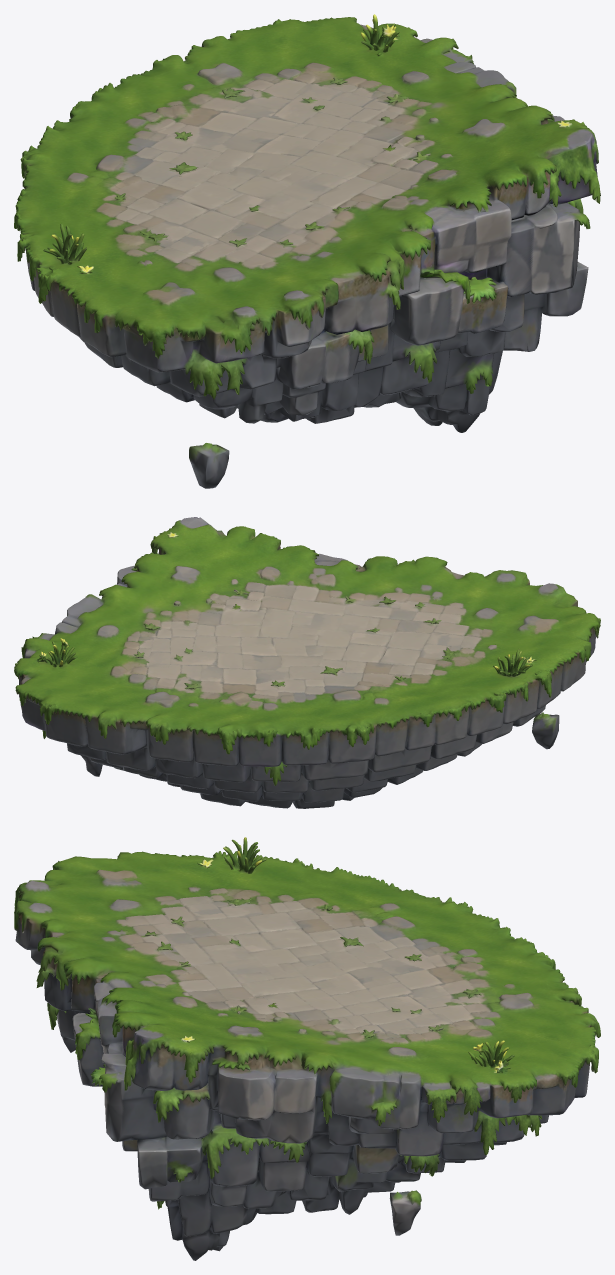
File: island-web.glb
3 renders of one model, top to bottom at view 1: azimuth 30°, elevation 25°; view 2: azimuth 150°, elevation 25°; view 3: azimuth 270°, elevation 25°, orthographic. The views are drawn at different scales.
Visible parts, largest first — view 1: tripo_node_a02264bc-14dd-4587-8488-bdd92dcfaa37; view 2: tripo_node_a02264bc-14dd-4587-8488-bdd92dcfaa37; view 3: tripo_node_a02264bc-14dd-4587-8488-bdd92dcfaa37.
Boxes of the visible parts, x1=… form: tripo_node_a02264bc-14dd-4587-8488-bdd92dcfaa37: x1=14, y1=14, x2=600, y2=488; tripo_node_a02264bc-14dd-4587-8488-bdd92dcfaa37: x1=14, y1=517, x2=600, y2=808; tripo_node_a02264bc-14dd-4587-8488-bdd92dcfaa37: x1=14, y1=837, x2=600, y2=1260.
Bounding box in the file's own units: 4.93 × 2.5 × 4.94.
1 material, 1 textured.
